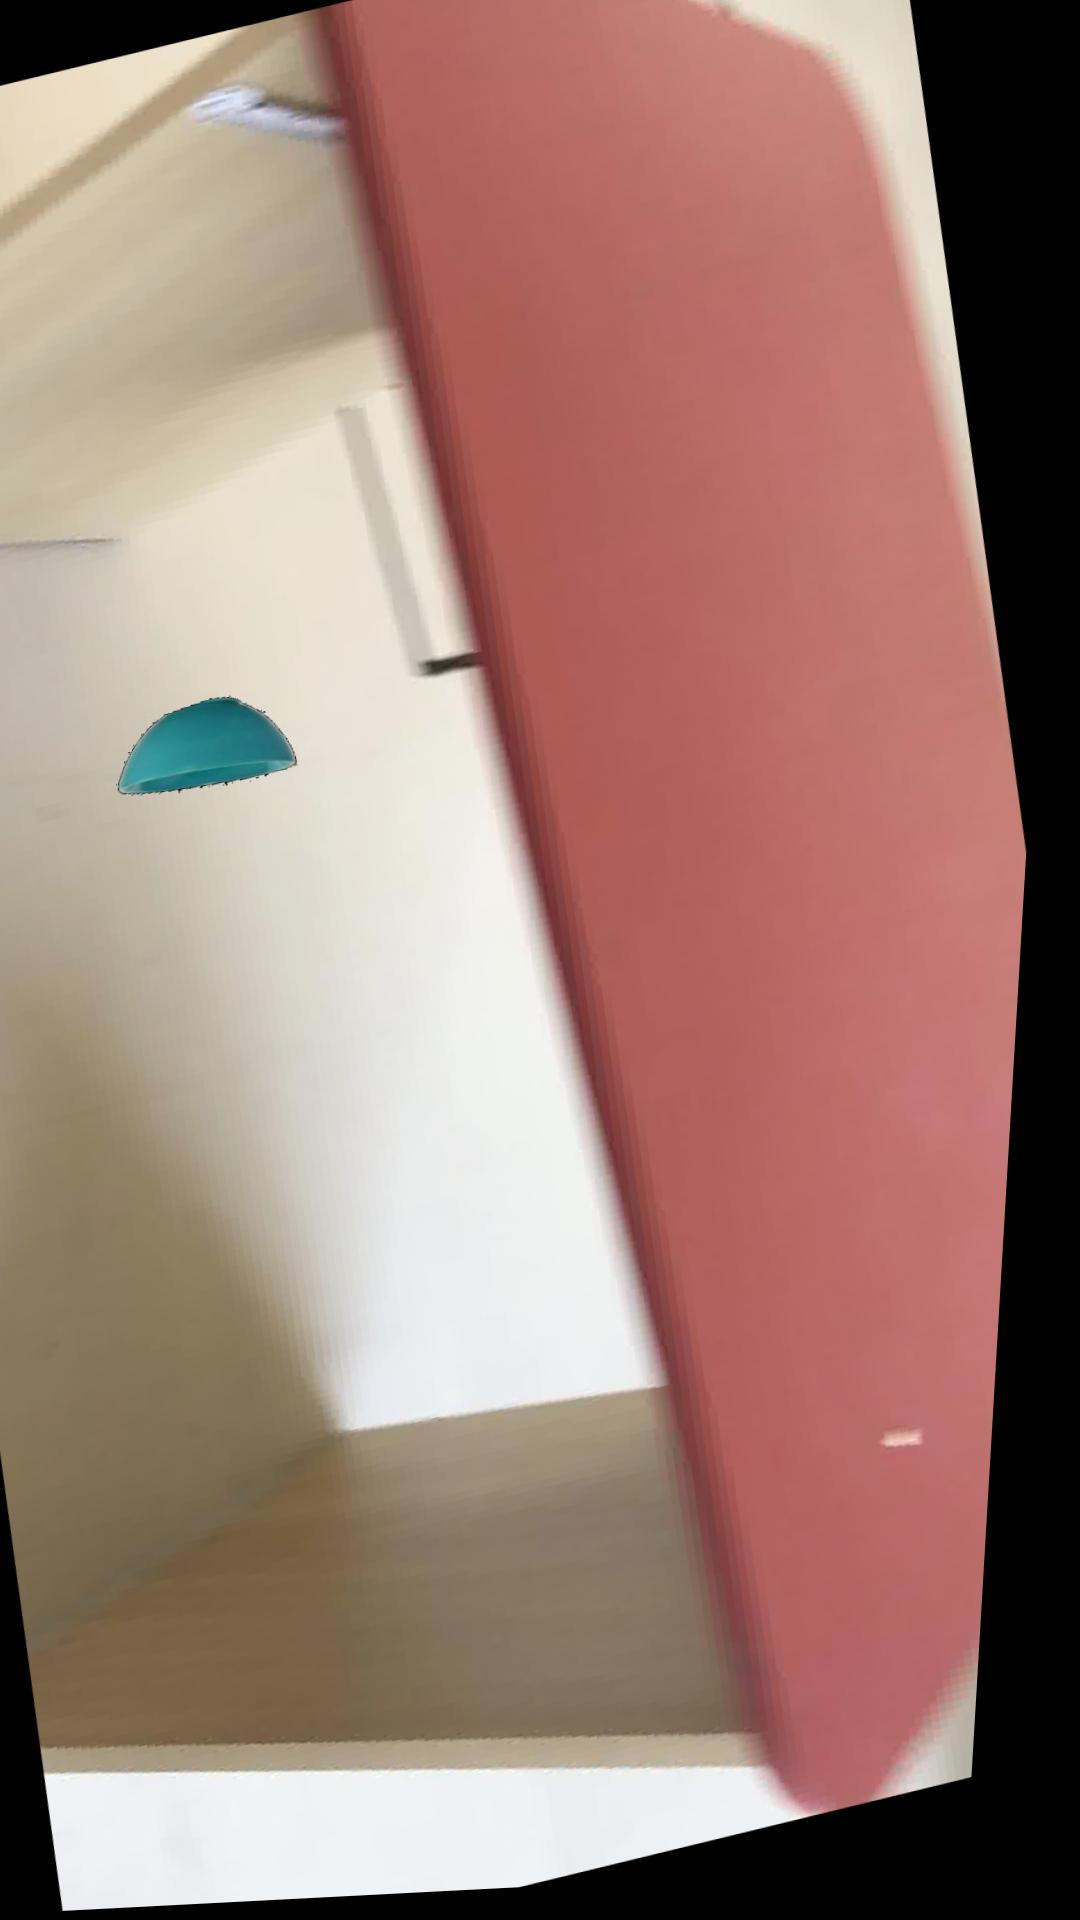bowl: (127, 699, 305, 795)
